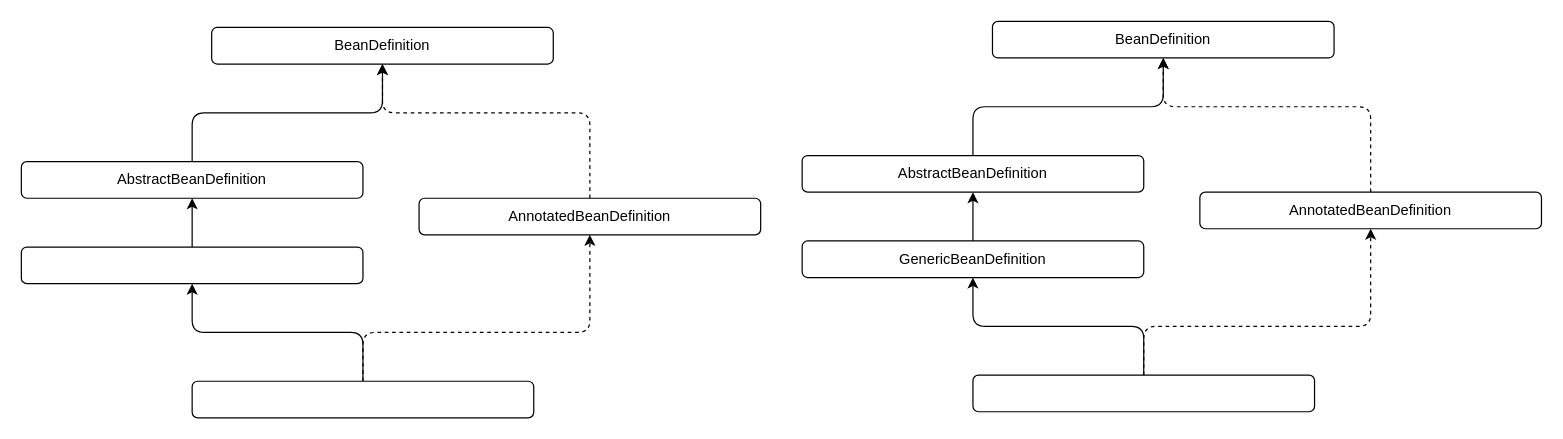
Image size: 1563x439. Some labels were removed from this diagram. Here are the shapes that lost their labels. From the top down, the box of each, then its label:
(20, 246, 363, 284): RootBeanDefinition
(191, 380, 534, 418): ConfigurationClassBeanDefinition
(972, 374, 1315, 412): AnnotatedGenericBeanDefinition
